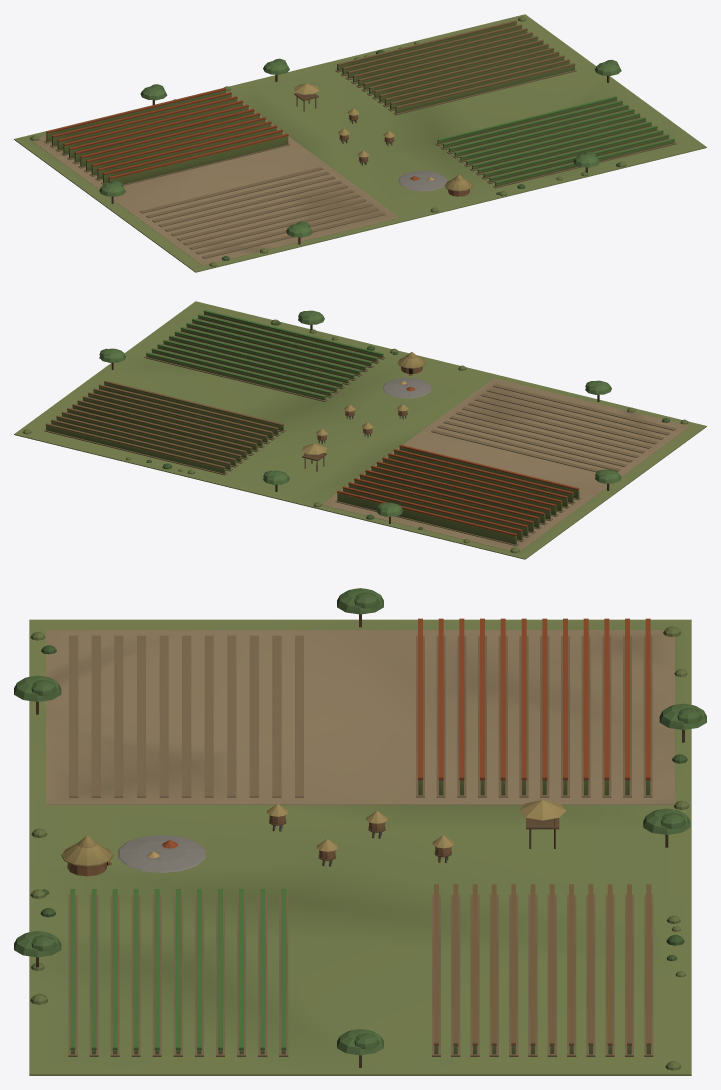
Rendered from fields-granaries.glb.
3 views of the same model, one above another, from view 1: azimuth 30°, elevation 25°; view 2: azimuth 150°, elevation 25°; view 3: azimuth 270°, elevation 25° (orthographic). The views are drawn at different scales.
Visible parts, largest first — view 1: p0_ground, p1_fields, p2_granaries; view 2: p0_ground, p1_fields, p2_granaries; view 3: p0_ground, p1_fields, p2_granaries.
Part boxes in pixels (left/top/right/bottom): p0_ground: left=14, top=14, right=706, bottom=272; p1_fields: left=44, top=20, right=676, bottom=258; p2_granaries: left=30, top=16, right=626, bottom=266; p0_ground: left=14, top=301, right=706, bottom=559; p1_fields: left=44, top=310, right=676, bottom=545; p2_granaries: left=23, top=310, right=688, bottom=553; p0_ground: left=29, top=619, right=691, bottom=1075; p1_fields: left=68, top=618, right=653, bottom=1056; p2_granaries: left=14, top=588, right=706, bottom=1070.
Bounding box in the file's own units: 132 × 6.05 × 83.71.
